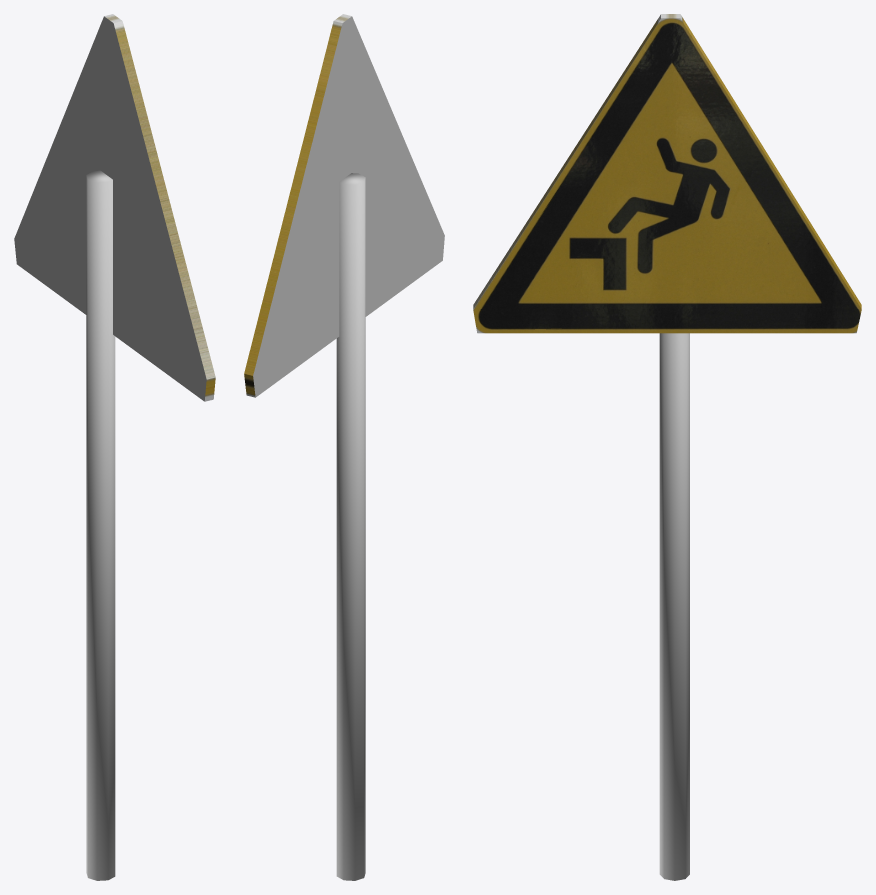
Rendered from fall.fbx.
The picture shows the model from 3 angles, left to right: view 1: azimuth 30°, elevation 25°; view 2: azimuth 150°, elevation 25°; view 3: azimuth 270°, elevation 25°; orthographic projection.
Visible parts, largest first — view 1: TexturesCom_SignsInjury0011_2_masked_S; view 2: TexturesCom_SignsInjury0011_2_masked_S; view 3: TexturesCom_SignsInjury0011_2_masked_S.
Boxes of the visible parts, x1=… form: TexturesCom_SignsInjury0011_2_masked_S: x1=14, y1=14, x2=215, y2=880; TexturesCom_SignsInjury0011_2_masked_S: x1=244, y1=14, x2=444, y2=880; TexturesCom_SignsInjury0011_2_masked_S: x1=473, y1=14, x2=861, y2=880.
Size of the model in its own units: 27.74 by 813 by 332.
